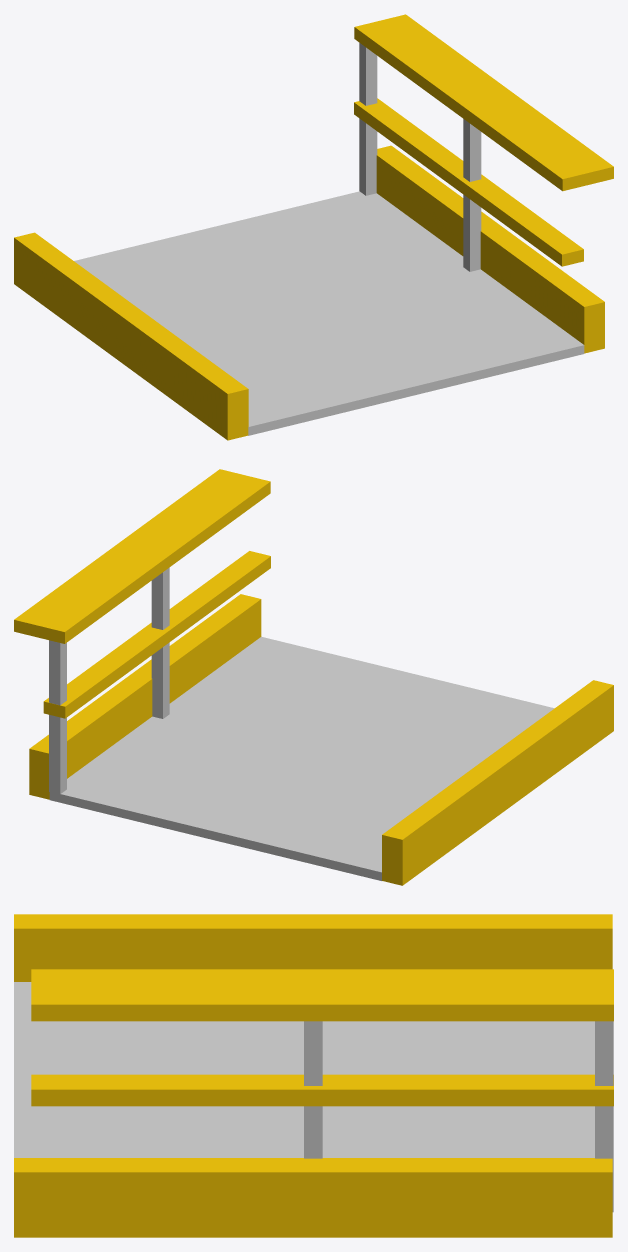
Rendered from Catwalk.fbx.
3 renders of one model, top to bottom at view 1: azimuth 30°, elevation 25°; view 2: azimuth 150°, elevation 25°; view 3: azimuth 270°, elevation 25°, orthographic. The views are drawn at different scales.
Visible parts, largest first — view 1: Cube.002; view 2: Cube.002; view 3: Cube.002.
Part boxes in pixels (box(x1,y1,x2,y2)): Cube.002: box(14, 14, 613, 440); Cube.002: box(14, 469, 613, 885); Cube.002: box(14, 914, 613, 1237).
Size of the model in its own units: 218 by 92.38 by 206.
